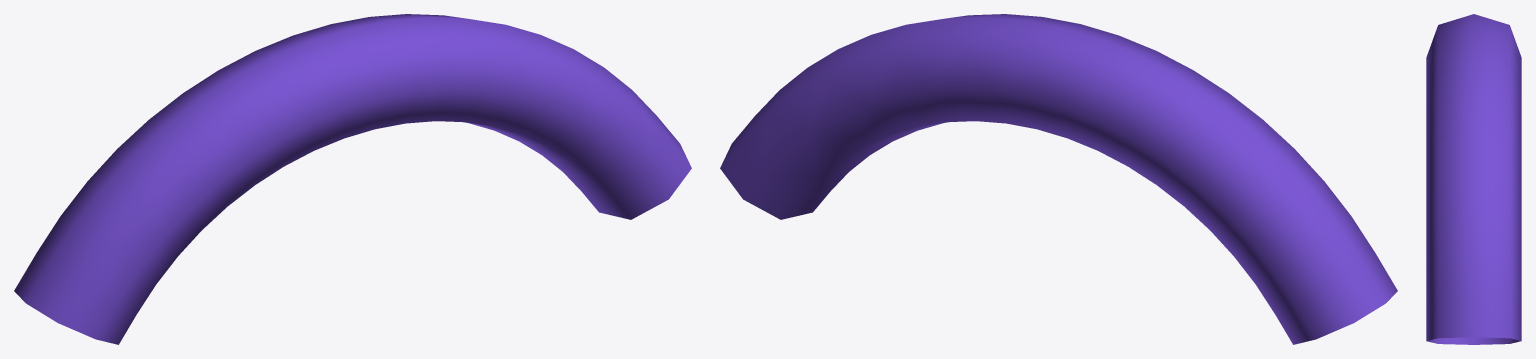
The model's file is third pipefbx.fbx.
3 renders of one model, left to right at view 1: azimuth 30°, elevation 25°; view 2: azimuth 150°, elevation 25°; view 3: azimuth 270°, elevation 25°, orthographic. The views are drawn at different scales.
Parts seen in each view (by area): view 1: Circle_004; view 2: Circle_004; view 3: Circle_004.
Boxes of the visible parts, x1,y1,x2,y2 form: Circle_004: [14, 14, 691, 344]; Circle_004: [720, 14, 1397, 344]; Circle_004: [1426, 14, 1521, 344].
Size of the model in its own units: 25.85 by 9.23 by 4.
